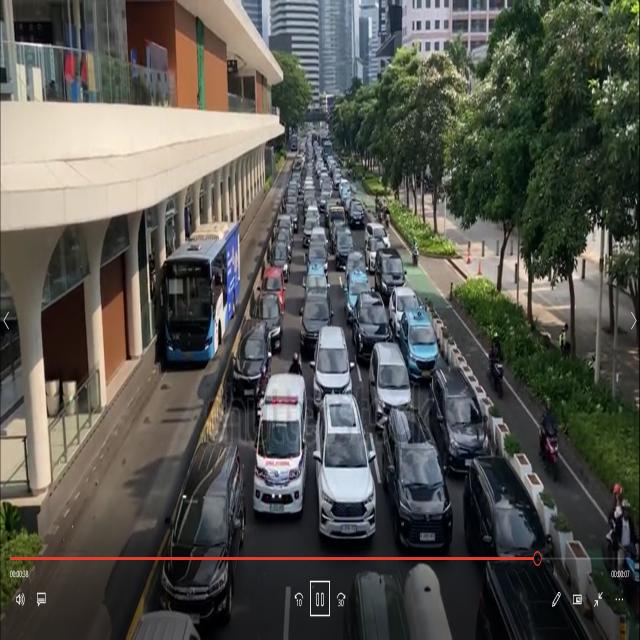Ambulance: (254, 356, 309, 529)
